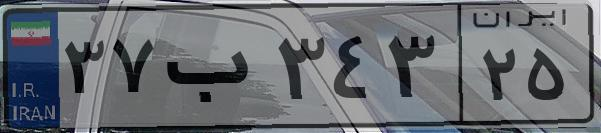2: (475, 38, 525, 113)
3: (270, 28, 330, 110), (385, 28, 445, 110), (57, 26, 110, 100)
4: (330, 28, 385, 110)
5: (525, 38, 570, 115)
7: (110, 28, 158, 98)
ب: (158, 20, 270, 120)
